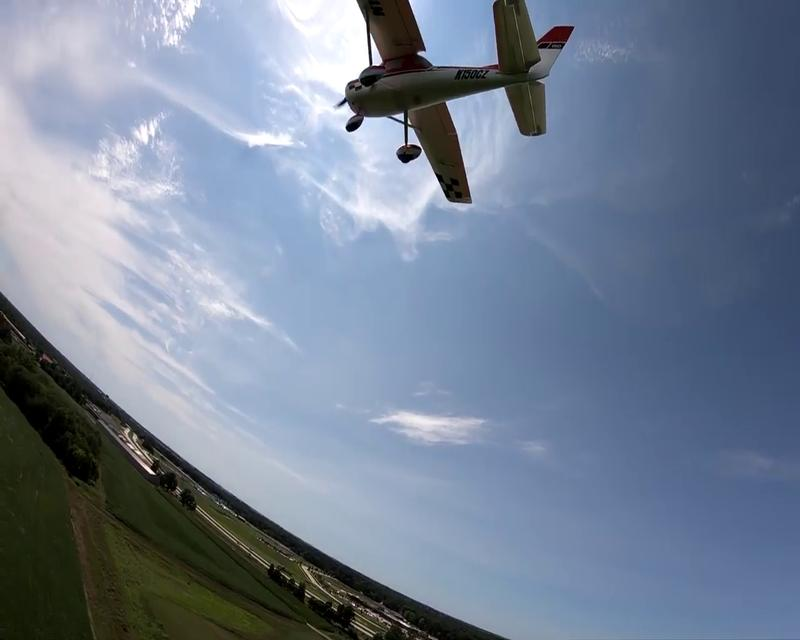UAV: (333, 0, 574, 204)
